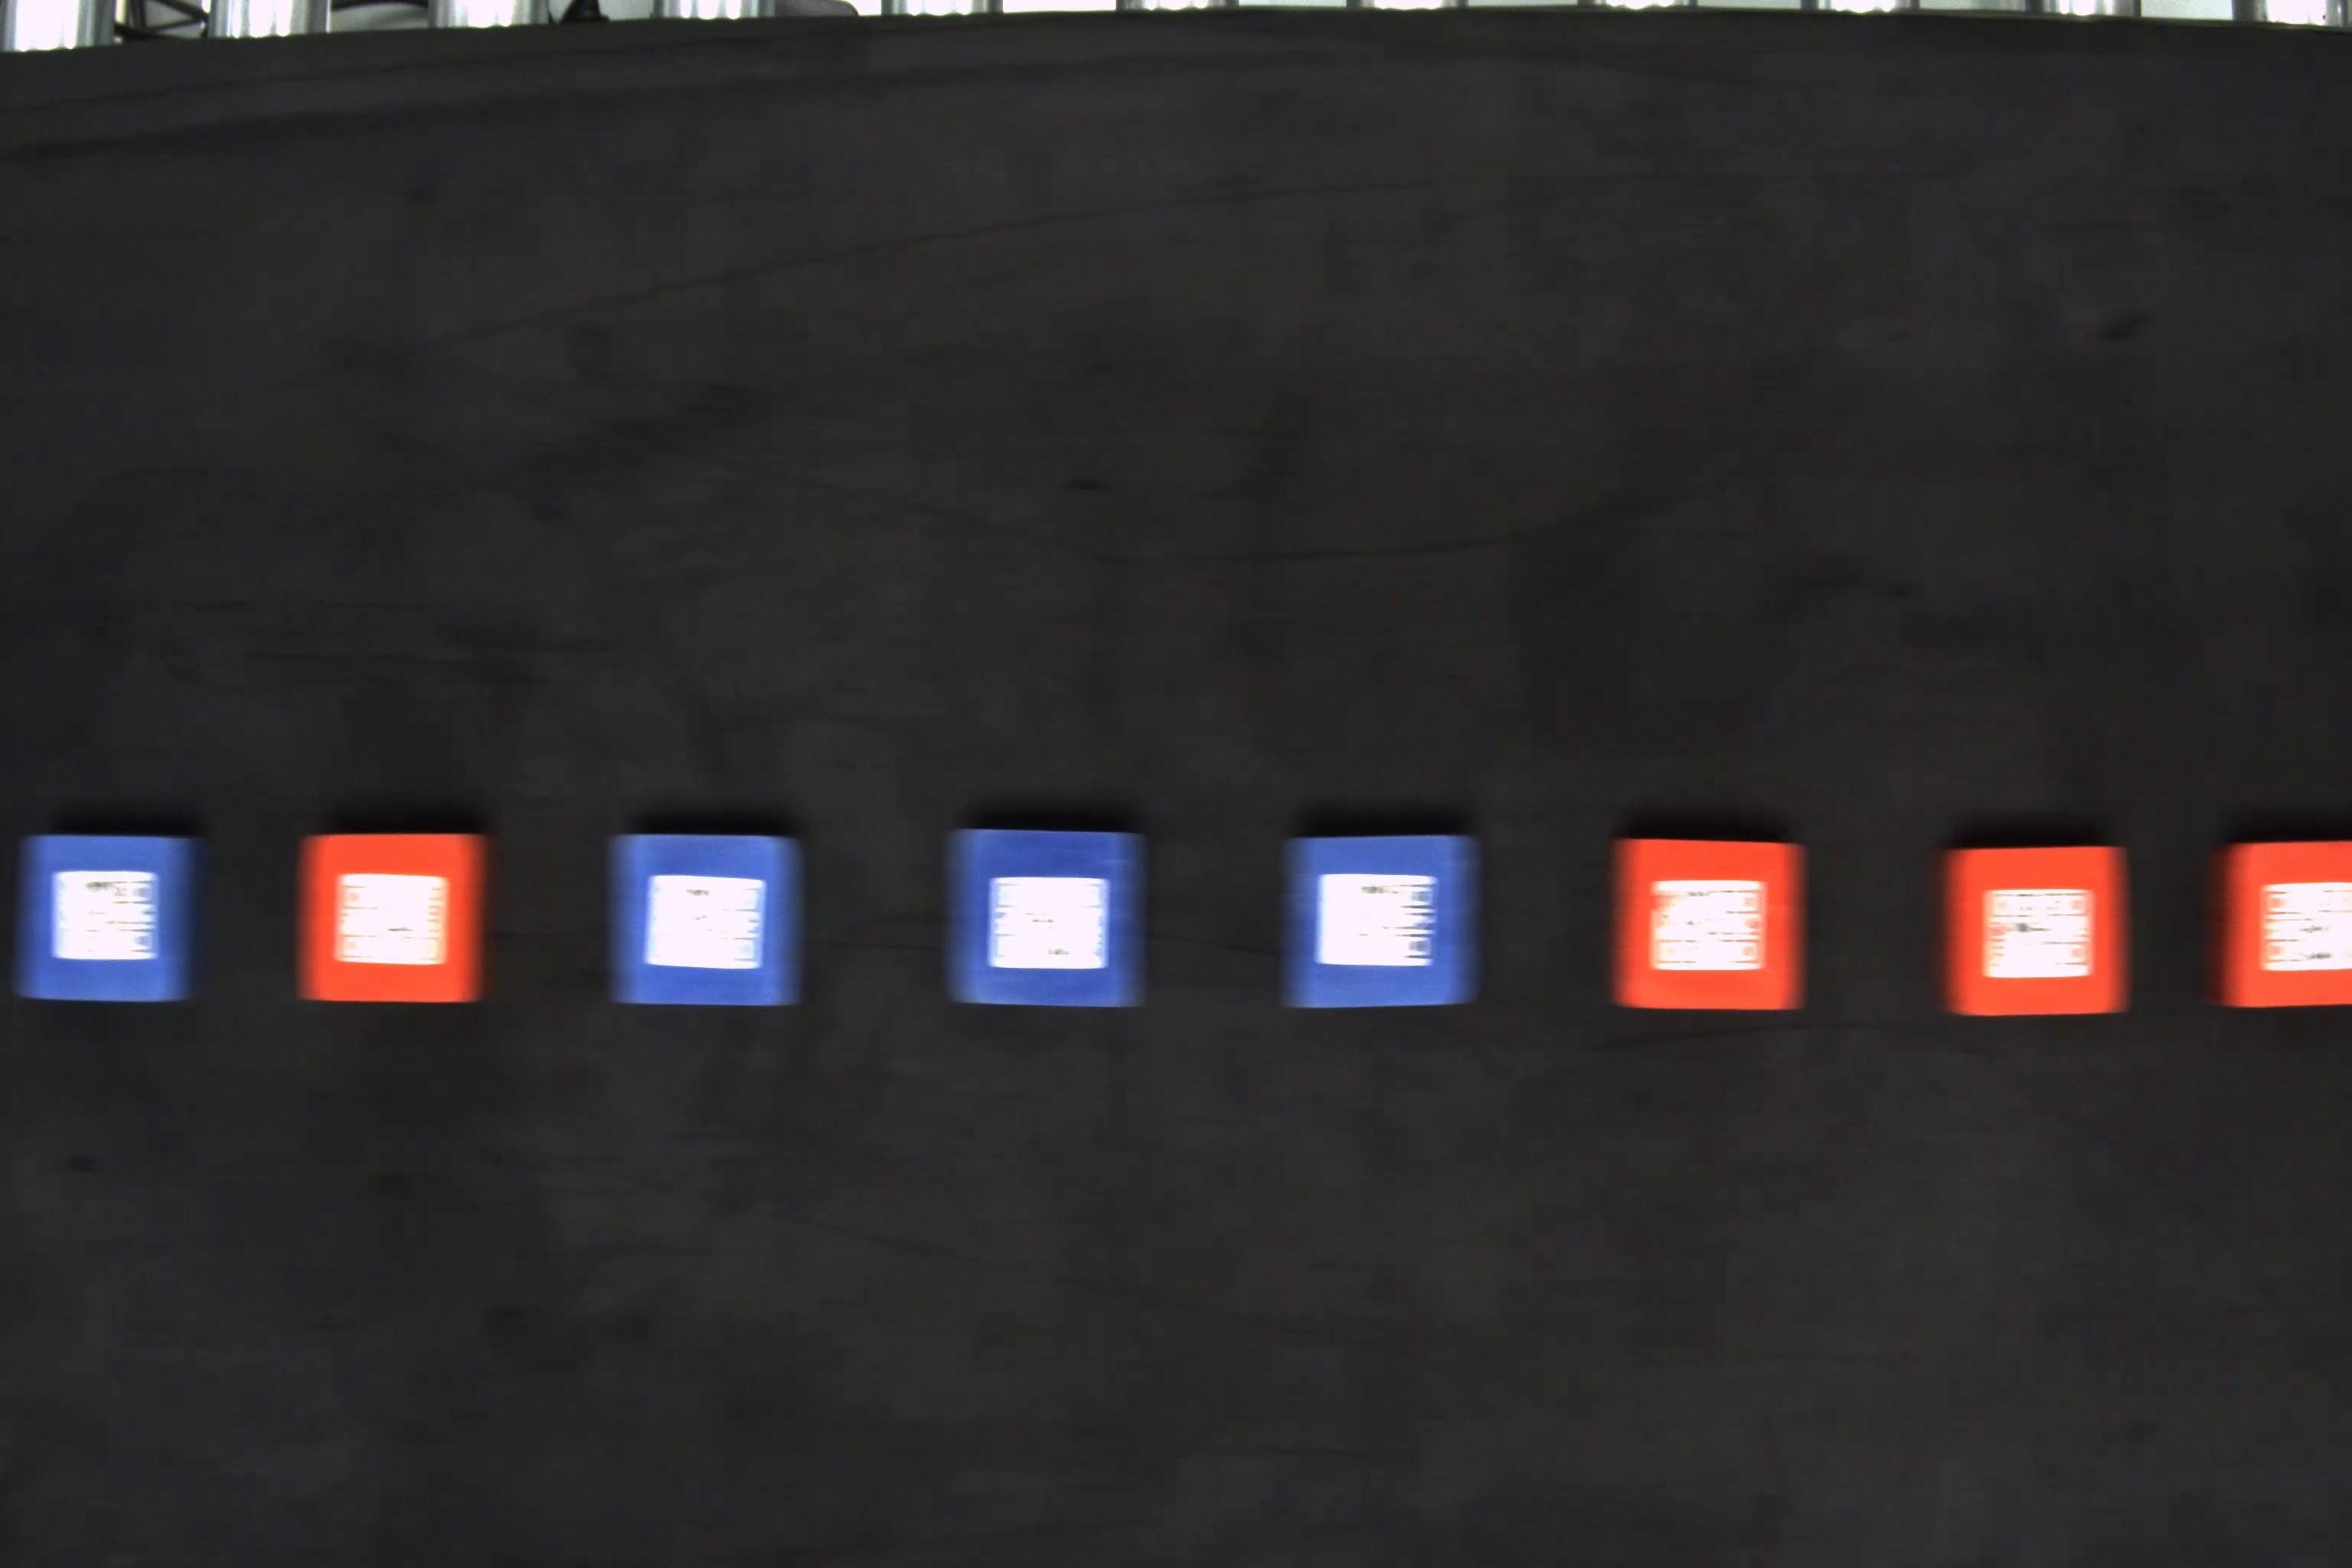wood: (938, 821, 1144, 1006), (1613, 831, 1816, 1015), (607, 833, 810, 1011), (1288, 835, 1480, 1011), (1937, 847, 2135, 1018), (299, 833, 490, 1001), (16, 835, 199, 1001), (2210, 842, 2352, 1006)
